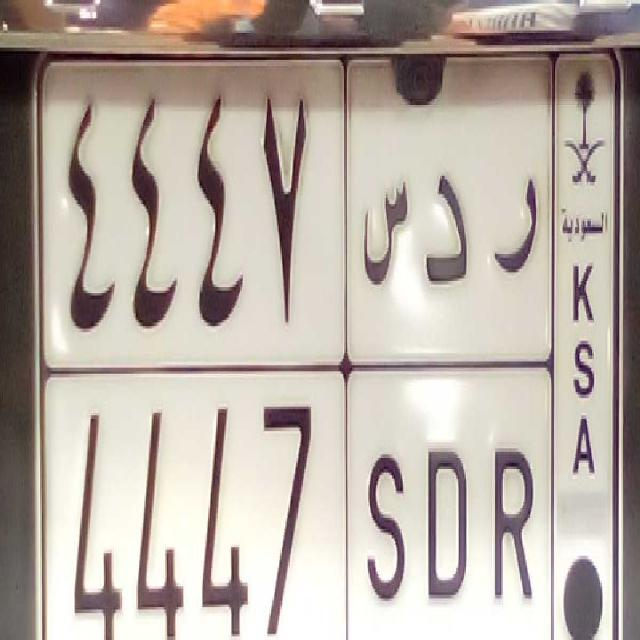license_plate: (48, 358, 544, 640)
